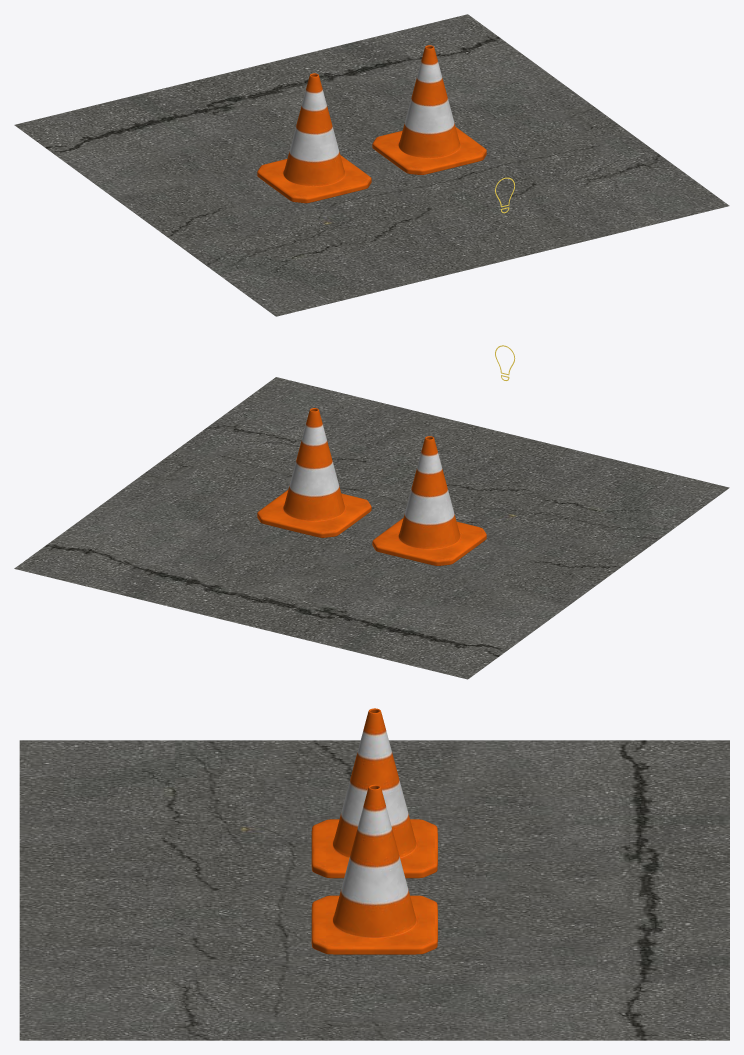
The model's file is TrafficCone.glb.
3 views of the same model, one above another, from view 1: azimuth 30°, elevation 25°; view 2: azimuth 150°, elevation 25°; view 3: azimuth 270°, elevation 25° (orthographic). The views are drawn at different scales.
Visible parts, largest first — view 1: GroundPlane, Cone Retroreflection, Cone Normal; view 2: GroundPlane, Cone Normal, Cone Retroreflection; view 3: GroundPlane, Cone Normal, Cone Retroreflection.
Boxes of the visible parts, x1,y1,x2,y2 form: GroundPlane: [14, 14, 729, 316]; Cone Retroreflection: [257, 73, 371, 203]; Cone Normal: [372, 45, 486, 174]; GroundPlane: [14, 377, 729, 679]; Cone Normal: [257, 408, 371, 537]; Cone Retroreflection: [372, 436, 486, 565]; GroundPlane: [19, 740, 729, 1040]; Cone Normal: [311, 784, 437, 954]; Cone Retroreflection: [311, 708, 437, 878].
Bounding box in the file's own units: 2.36 × 0.5193 × 2.38.
4 materials, 3 textured.
